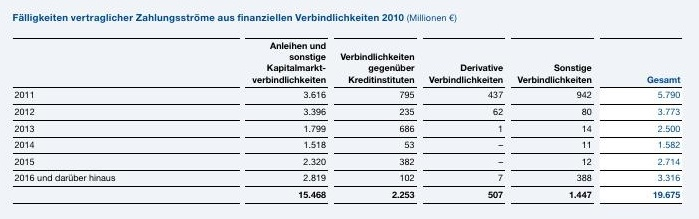table: (0, 0, 699, 219)
